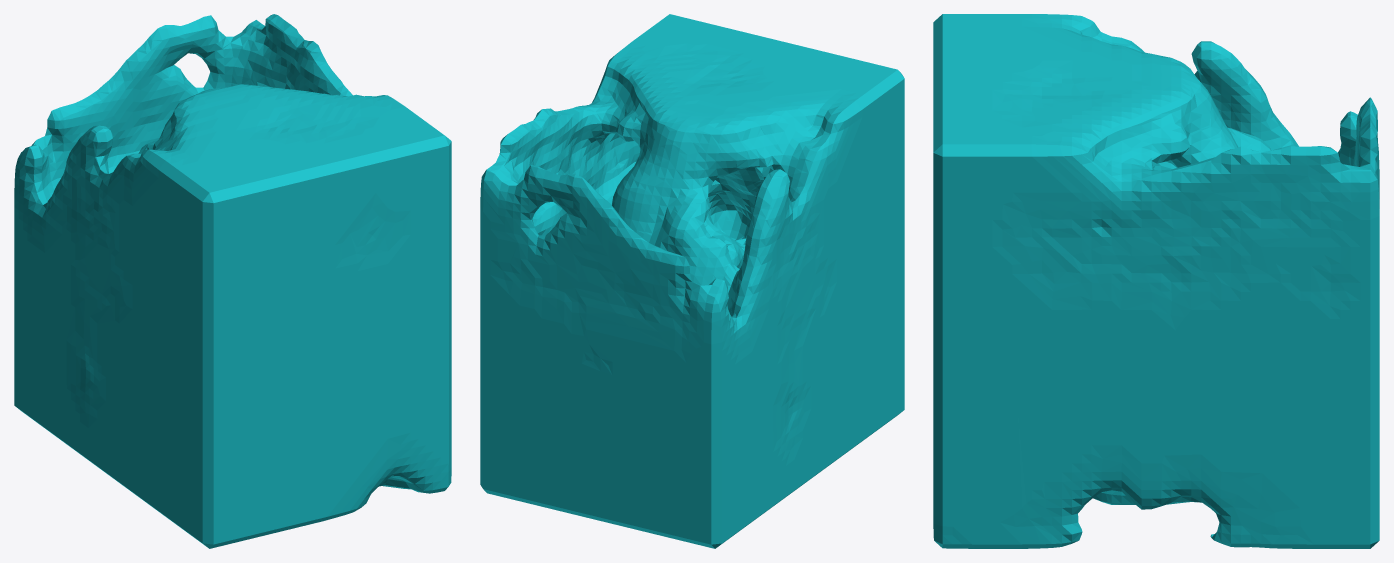
3 renders of one model, left to right at view 1: azimuth 30°, elevation 25°; view 2: azimuth 150°, elevation 25°; view 3: azimuth 270°, elevation 25°, orthographic. The views are drawn at different scales.
Parts seen in each view (by area): view 1: Liquid_Domain; view 2: Liquid_Domain; view 3: Liquid_Domain.
Part boxes in pixels (x1,y1,x2,y2): Liquid_Domain: (14, 14, 451, 548); Liquid_Domain: (480, 14, 904, 548); Liquid_Domain: (933, 14, 1379, 548).
Bounding box in the file's own units: 79.09 × 108 × 108.
